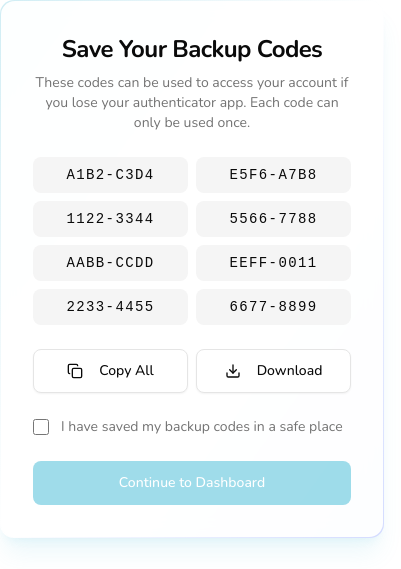
Scenario: BackupCodesDisplay — guardrail edge cases › [P2] should toggle acknowledge checkbox on and off
Expected: the button with test id "backup-codes-continue" is disabled, [33,461,351,505]
Note: When the user clicks the checkbox (first click — check)
Click the checkbox with test id "backup-codes-acknowledge" at (41, 427), box [33,419,49,435]
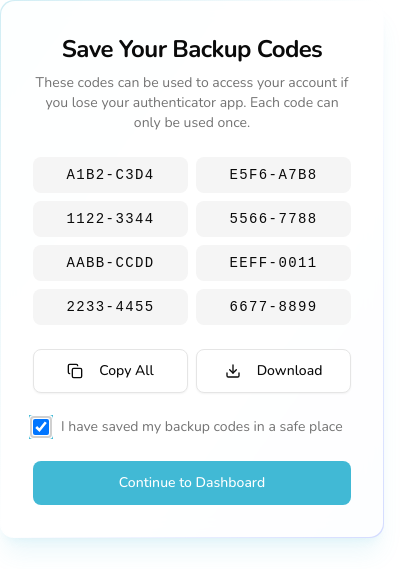
Result: the button with test id "backup-codes-continue" is enabled at [33,461,351,505]
Note: When the user clicks the checkbox again (second click — uncheck)
Click the checkbox with test id "backup-codes-acknowledge" at (41, 427), box [33,419,49,435]
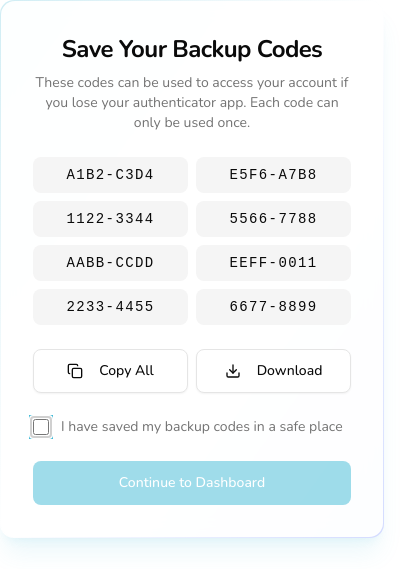
Result: the button with test id "backup-codes-continue" is disabled at [33,461,351,505]
